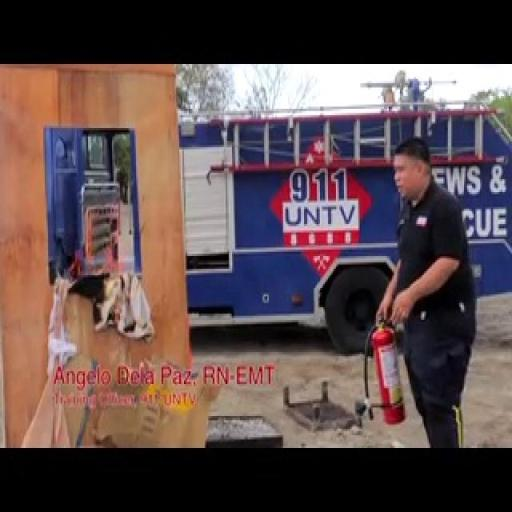smoke: (55, 194, 137, 290)
